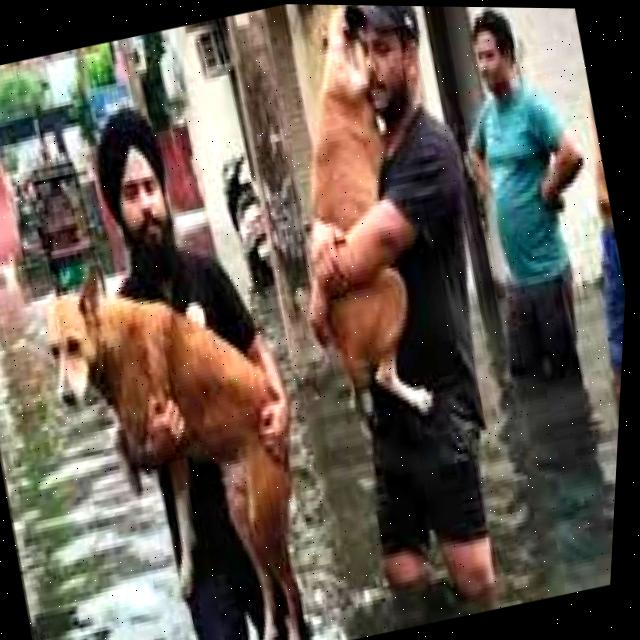civilian: (242, 4, 566, 634), (10, 80, 353, 640), (427, 7, 638, 398)
dog: (3, 224, 359, 640), (231, 4, 457, 430)
